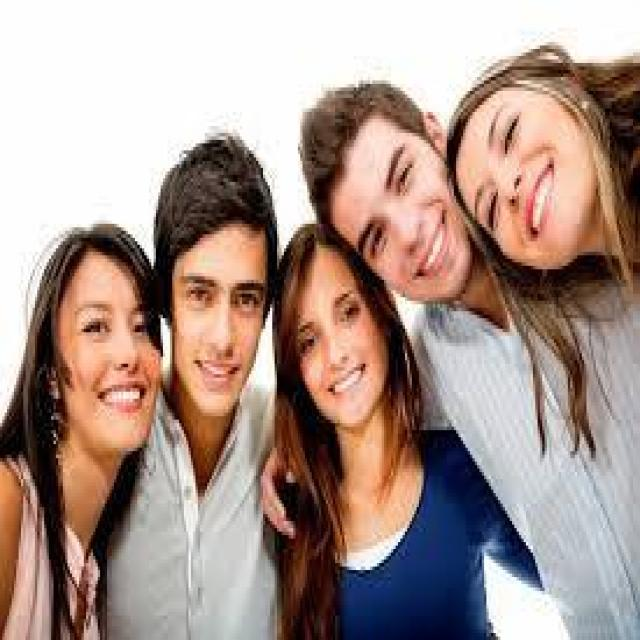person: (258, 203, 498, 636), (10, 192, 166, 633), (140, 116, 270, 636), (270, 49, 486, 346), (435, 46, 638, 360)
